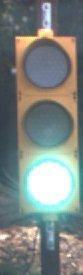Green: (4, 20, 83, 221)
